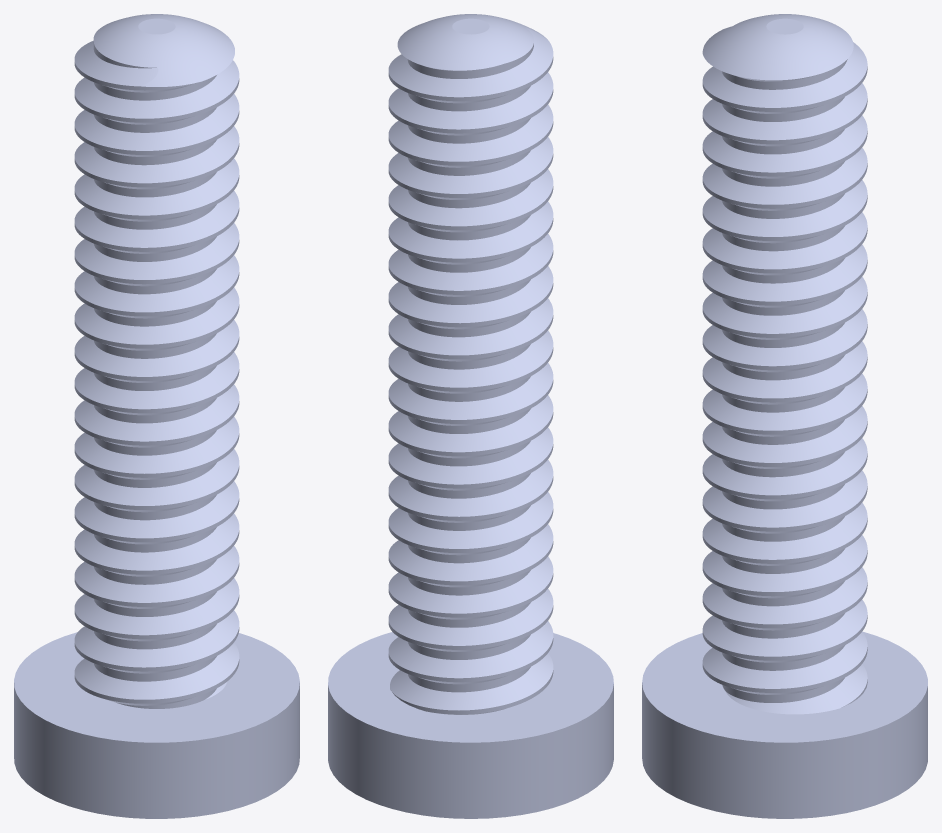
File: CLAMP SCREW.gltf
3 views of the same model, side by side, from view 1: azimuth 30°, elevation 25°; view 2: azimuth 150°, elevation 25°; view 3: azimuth 270°, elevation 25° (orthographic).
Parts seen in each view (by area): view 1: CLAMP SCREW; view 2: CLAMP SCREW; view 3: CLAMP SCREW.
Boxes of the visible parts, x1,y1,x2,y2 form: CLAMP SCREW: [14, 14, 299, 818]; CLAMP SCREW: [328, 14, 613, 818]; CLAMP SCREW: [642, 14, 927, 818].
Bounding box in the file's own units: 0.017 × 0.048 × 0.017.
